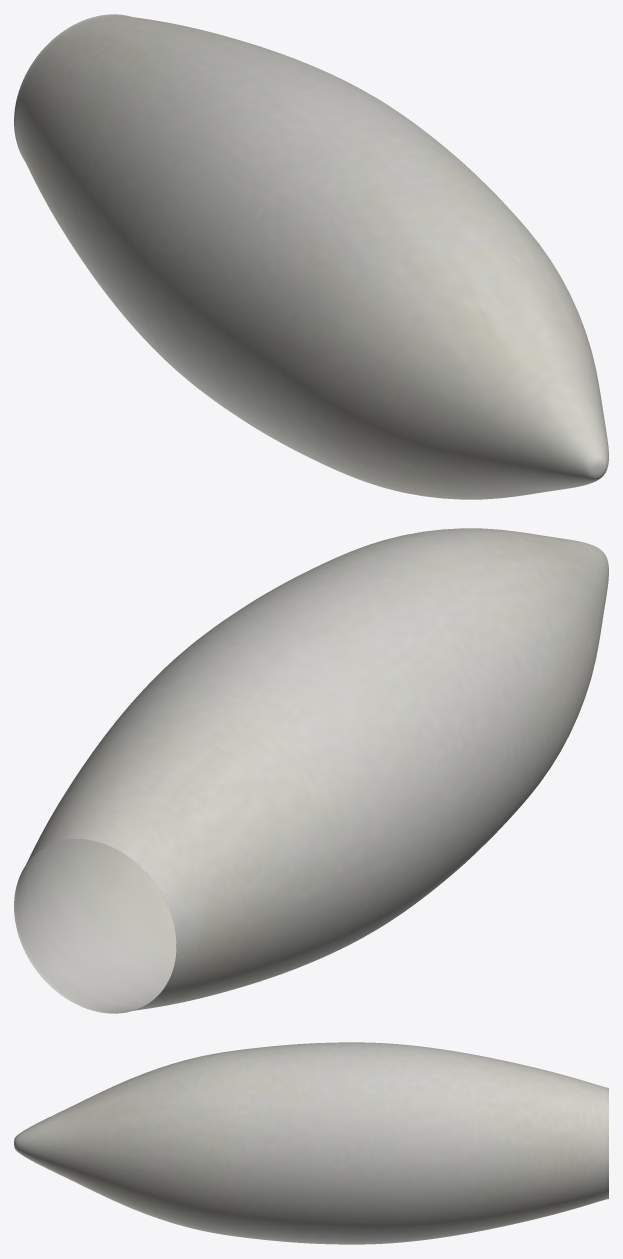
Rendered from RoundWhiteOnionPeel007.obj.
3 views of the same model, one above another, from view 1: azimuth 30°, elevation 25°; view 2: azimuth 150°, elevation 25°; view 3: azimuth 270°, elevation 25° (orthographic). The views are drawn at different scales.
Visible parts, largest first — view 1: RoundWhiteOnionPeel007; view 2: RoundWhiteOnionPeel007; view 3: RoundWhiteOnionPeel007.
Part boxes in pixels (left/top/right/bottom): RoundWhiteOnionPeel007: left=14, top=14, right=608, bottom=499; RoundWhiteOnionPeel007: left=14, top=528, right=608, bottom=1013; RoundWhiteOnionPeel007: left=14, top=1042, right=608, bottom=1244.
Bounding box in the file's own units: 0.0292 × 0.0292 × 0.086.
Materials: 1 (1 with a texture image).
